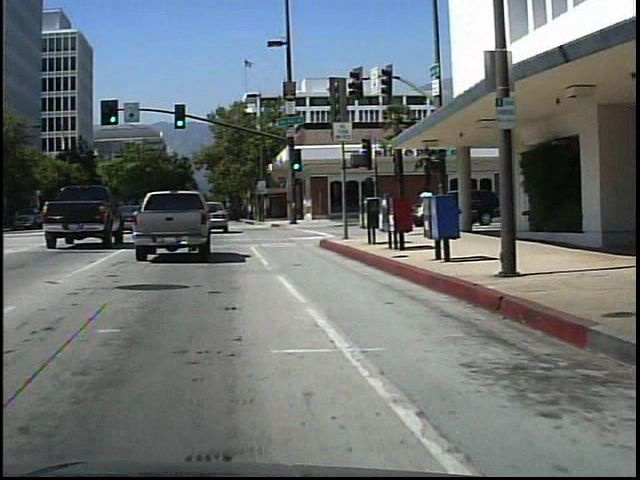person: (417, 184, 437, 234)
